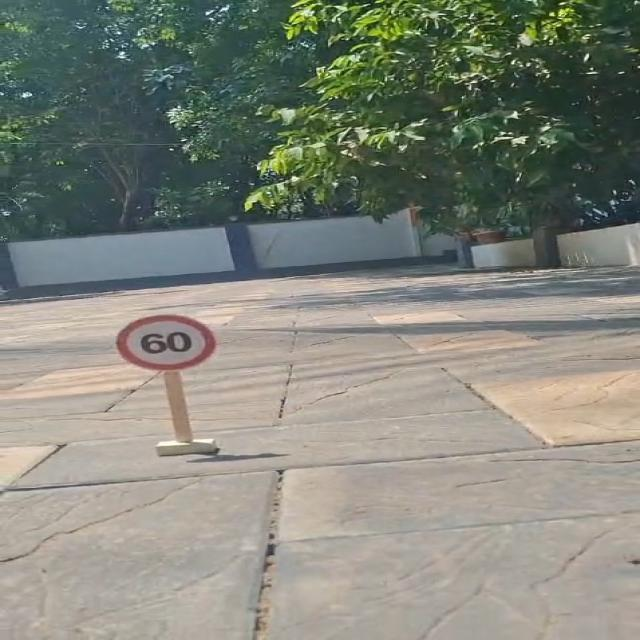Speed60: (100, 308, 239, 376)
